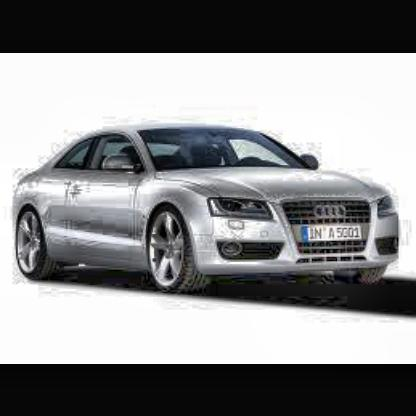Audi A5 Coupe 2012: (12, 124, 407, 300)
